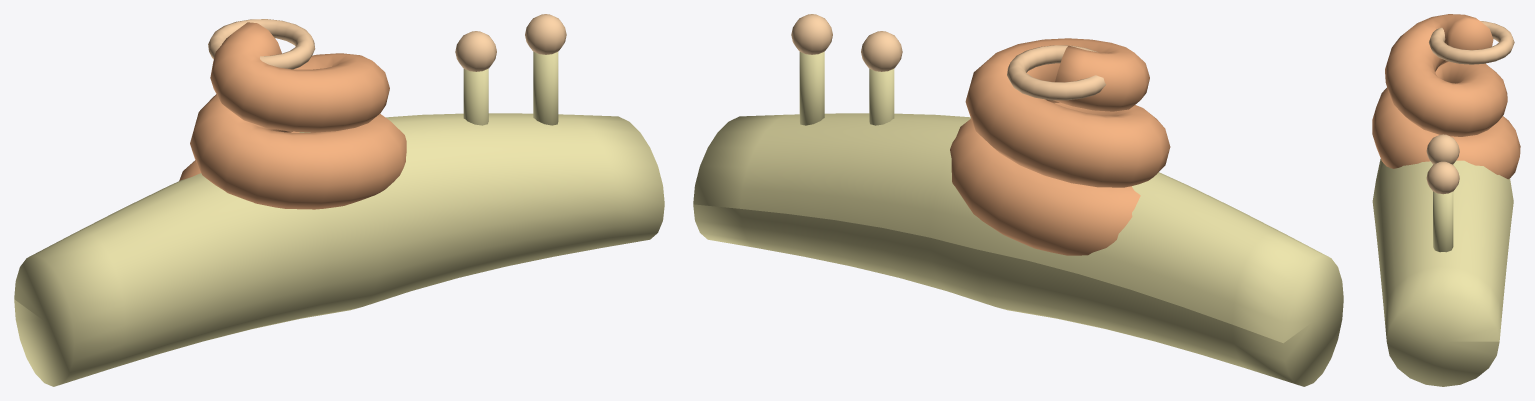
Rendered from snail-v2.glb.
3 renders of one model, left to right at view 1: azimuth 30°, elevation 25°; view 2: azimuth 150°, elevation 25°; view 3: azimuth 270°, elevation 25°, orthographic. The views are drawn at different scales.
Visible parts, largest first — view 1: snail_body, snail_shell, snail_shell_lip, snail_stalk_0.3, snail_stalk_0.2, snail_eye_0.3, snail_eye_0.2; view 2: snail_body, snail_shell, snail_shell_lip, snail_stalk_0.3, snail_stalk_0.2, snail_eye_0.3, snail_eye_0.2; view 3: snail_body, snail_shell, snail_shell_lip, snail_stalk_0.3, snail_eye_0.3, snail_eye_0.2.
Boxes of the visible parts, x1,y1,x2,y2 form: snail_body: (14,113,664,386); snail_shell: (179,22,406,209); snail_shell_lip: (208,19,315,69); snail_stalk_0.3: (533,51,558,125); snail_stalk_0.2: (463,68,488,125); snail_eye_0.3: (525,14,566,54); snail_eye_0.2: (455,31,496,71); snail_body: (693,113,1343,386); snail_shell: (950,38,1170,255); snail_shell_lip: (1007,45,1105,100); snail_stalk_0.3: (799,51,824,125); snail_stalk_0.2: (869,68,894,125); snail_eye_0.3: (791,14,832,54); snail_eye_0.2: (861,31,902,71); snail_body: (1372,159,1513,386); snail_shell: (1372,14,1520,179); snail_shell_lip: (1429,21,1514,64); snail_stalk_0.3: (1433,191,1453,252); snail_eye_0.3: (1426,161,1459,194); snail_eye_0.2: (1426,134,1459,164).
Size of the model in its own units: 0.84 by 0.3997 by 0.2308.
